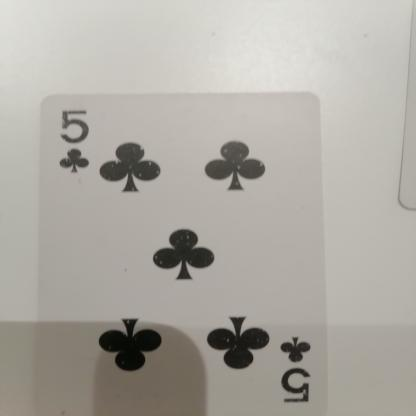5C: (45, 97, 106, 184), (280, 328, 328, 410)
